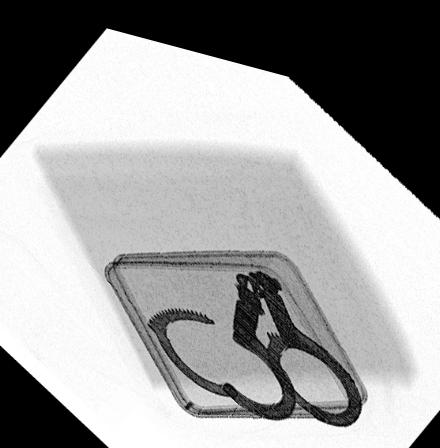HandCuffs: (141, 252, 362, 410)
